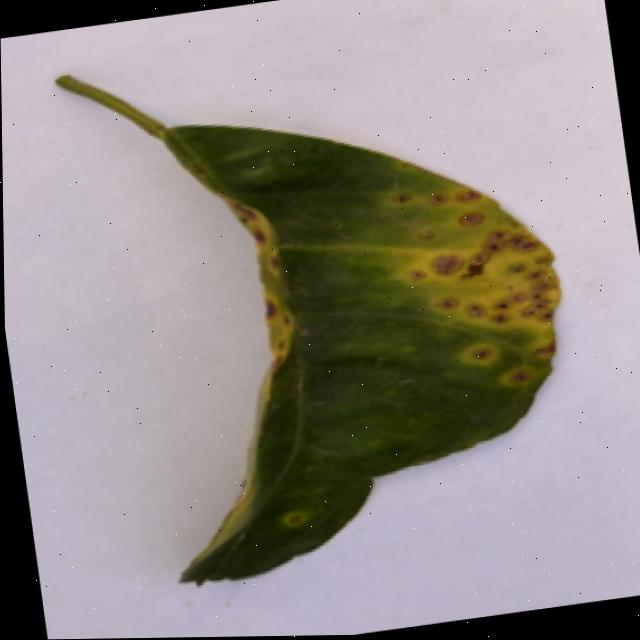canker: (133, 110, 556, 579), (375, 153, 586, 412), (215, 187, 317, 381)
